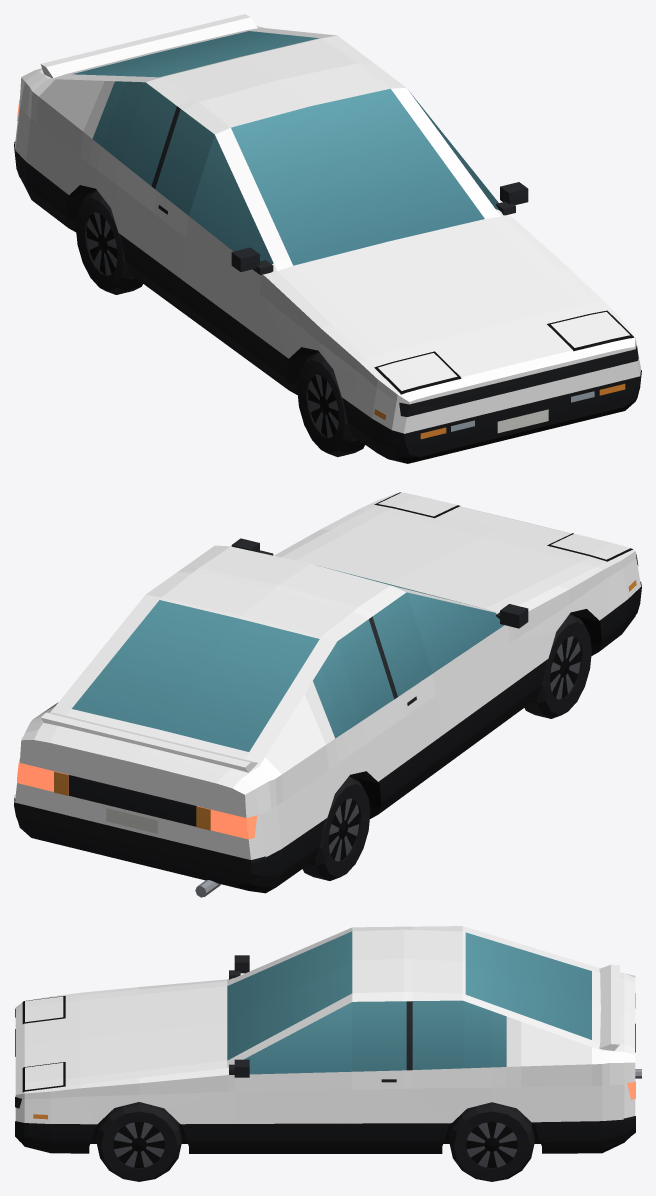
3 renders of one model, top to bottom at view 1: azimuth 30°, elevation 25°; view 2: azimuth 150°, elevation 25°; view 3: azimuth 270°, elevation 25°, orthographic. The views are drawn at different scales.
Visible parts, largest first — view 1: body, wheel-front-right, wheel-back-right, popup-right, popup-left; view 2: body, wheel-back-right, wheel-front-right, popup-right, popup-left; view 3: body, wheel-front-left, wheel-back-left, popup-left, popup-right.
Boxes of the visible parts, left/top/right/bottom form: body: left=14, top=14, right=641, bottom=463; wheel-front-right: left=297, top=352, right=364, bottom=457; wheel-back-right: left=75, top=190, right=142, bottom=294; popup-right: left=378, top=353, right=457, bottom=391; popup-left: left=550, top=312, right=630, bottom=348; body: left=14, top=492, right=641, bottom=897; wheel-back-right: left=302, top=776, right=370, bottom=880; wheel-front-right: left=524, top=614, right=591, bottom=718; popup-right: left=550, top=533, right=630, bottom=559; popup-left: left=378, top=492, right=457, bottom=516; body: left=15, top=926, right=641, bottom=1153; wheel-front-left: left=96, top=1102, right=181, bottom=1181; wheel-back-left: left=449, top=1102, right=534, bottom=1181; popup-left: left=25, top=1062, right=63, bottom=1090; popup-right: left=25, top=996, right=63, bottom=1022.
Size of the model in its own units: 1.8 by 1.34 by 4.27.
